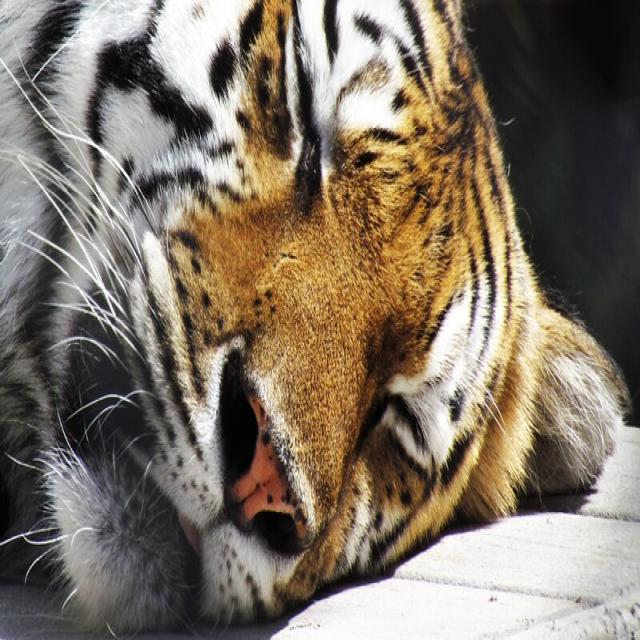Tiger: (0, 1, 627, 633)
